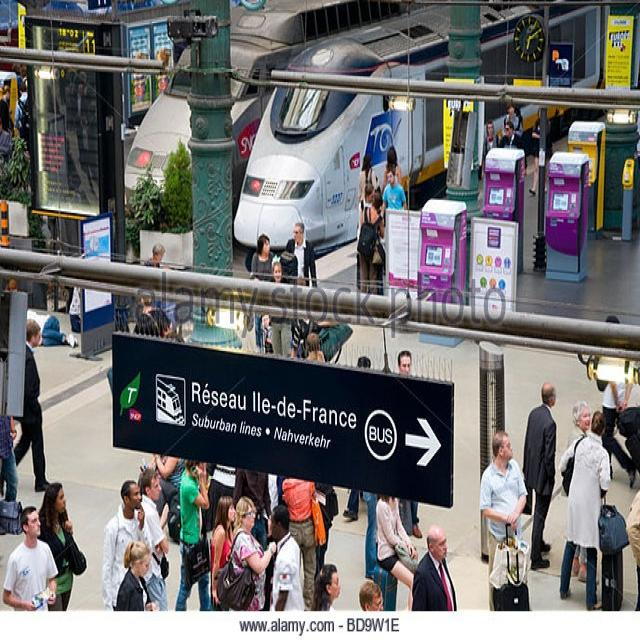body: (0, 59, 96, 198), (557, 409, 613, 614), (0, 316, 55, 499), (478, 429, 530, 611), (0, 504, 60, 638), (519, 380, 559, 574), (215, 496, 277, 614), (100, 479, 154, 611), (600, 314, 639, 489), (567, 400, 602, 585), (174, 457, 213, 613), (395, 348, 424, 542), (133, 466, 171, 613), (36, 480, 76, 613), (281, 476, 319, 613), (376, 489, 418, 611), (114, 536, 161, 638), (283, 218, 319, 346), (412, 524, 459, 612), (269, 502, 306, 611), (309, 562, 386, 612), (210, 493, 238, 613), (250, 233, 277, 355), (205, 454, 271, 502), (357, 193, 386, 293), (267, 259, 293, 358), (152, 453, 189, 519), (355, 152, 380, 249), (132, 286, 176, 337), (26, 308, 80, 349), (528, 106, 552, 197), (624, 488, 640, 611), (356, 181, 384, 245), (498, 121, 529, 178), (0, 414, 19, 504), (288, 325, 329, 364), (379, 166, 408, 218), (380, 144, 402, 196), (482, 118, 501, 162), (140, 240, 168, 269), (502, 100, 521, 132), (356, 354, 372, 368)
